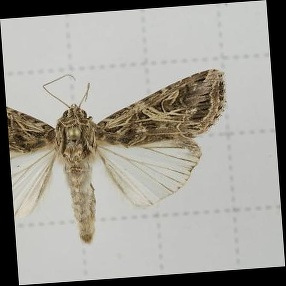Spodoptera litura: (11, 70, 231, 243)
